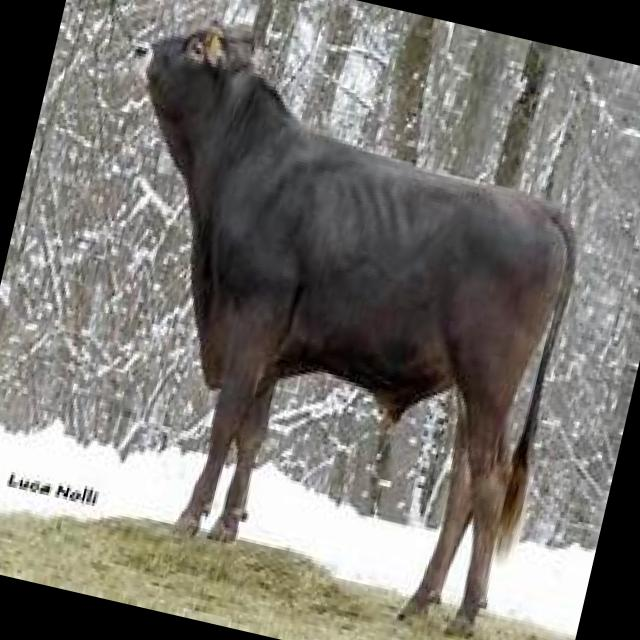animal: (20, 7, 612, 640)
